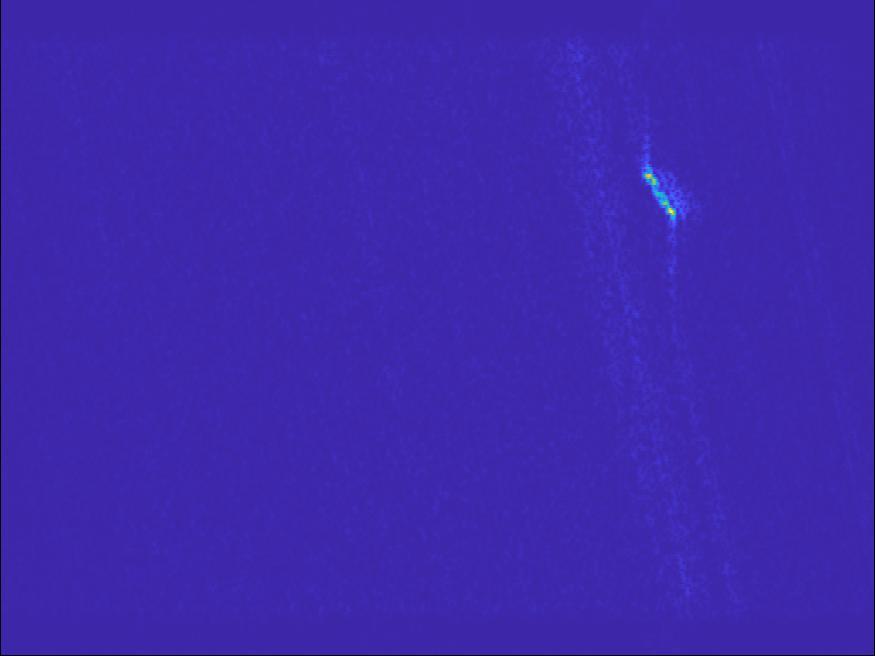Interference: (147, 392, 247, 439), (136, 536, 199, 583)
